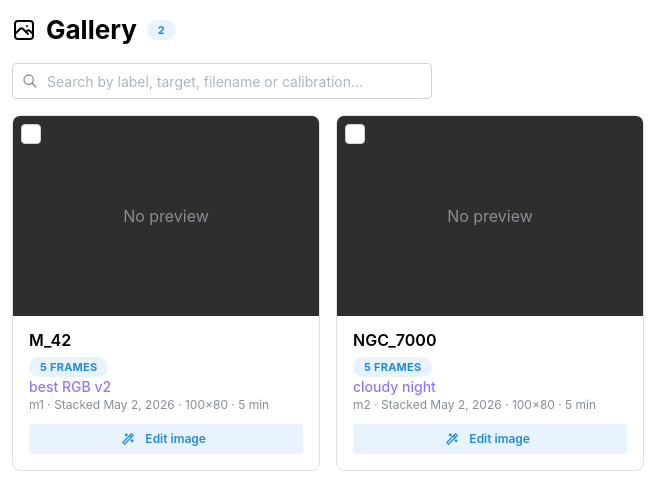
Scenario: Gallery batch apply › shows a run's label and filters by it (and by target name)
Expected: the text "best RGB v2" is shown, top-left (29, 378), bottom-right (111, 395)
Expected: the text "cloudy night" is shown, top-left (353, 378), bottom-right (436, 395)
// Searching the label narrows to the one card.
Type "rgb v2" into the field with placeholder "Search by label, target, filename or calibration…" at (222, 81), box top-left (12, 63), bottom-right (432, 99)
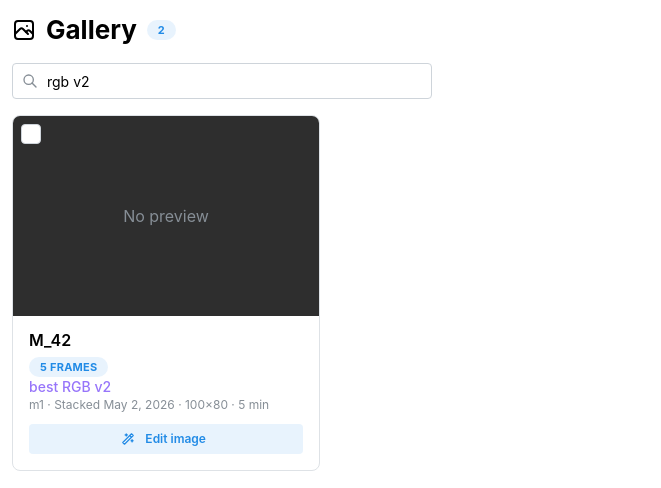
Expected: the text "best RGB v2" is shown, top-left (29, 378), bottom-right (111, 395)
Result: the text "cloudy night" is gone
// Searching a target name that matches nothing shows the empty message.
Replace the text in the field with placeholder "Search by label, target, filename or calibration…" with "zzz-nope" at (222, 81), box top-left (12, 63), bottom-right (432, 99)
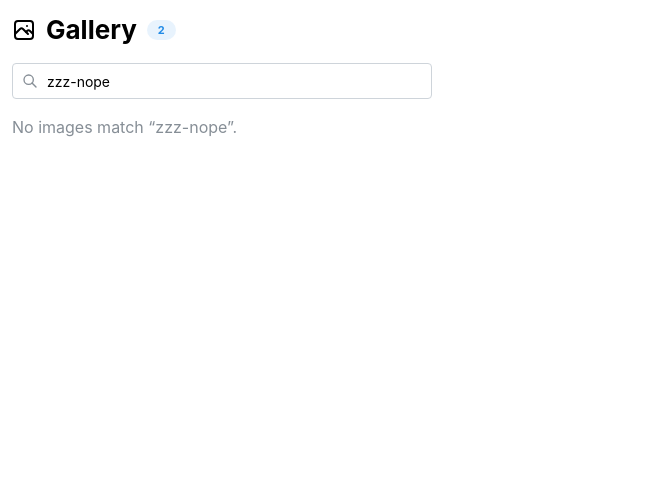
Result: the text "No images match “zzz-nope”." is shown at top-left (12, 117), bottom-right (237, 137)
